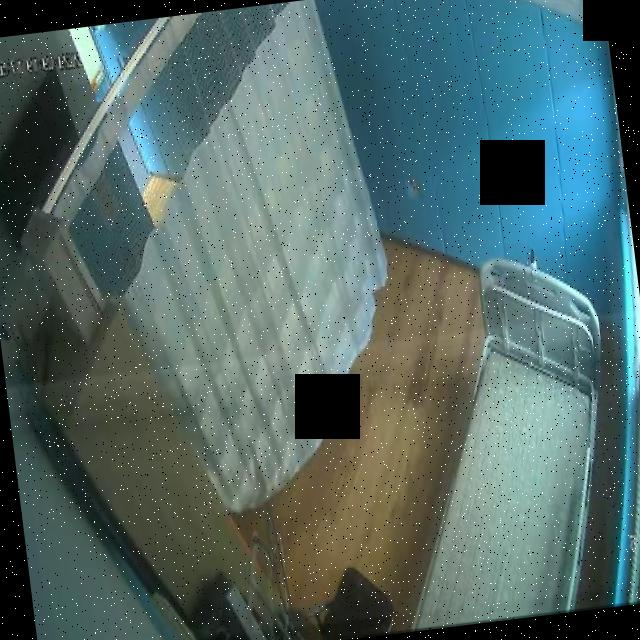bed: (370, 246, 632, 631)
